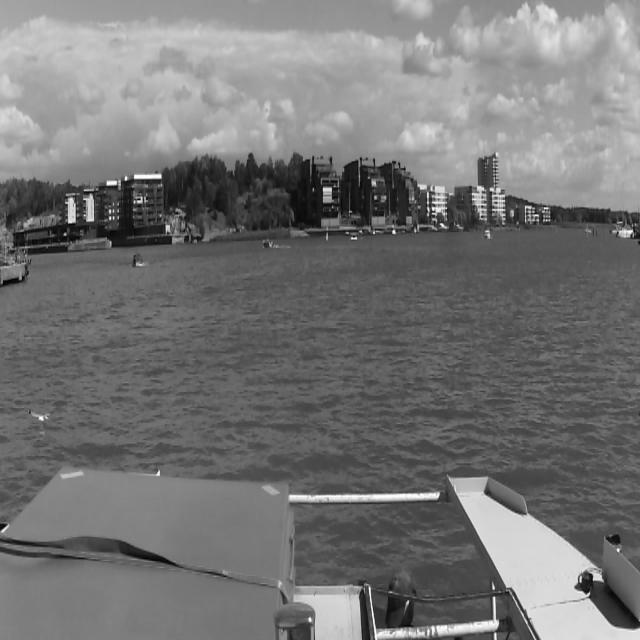buoy: (325, 224, 329, 242)
ship: (260, 234, 278, 252), (131, 252, 145, 270), (350, 231, 360, 243), (484, 227, 492, 241)
